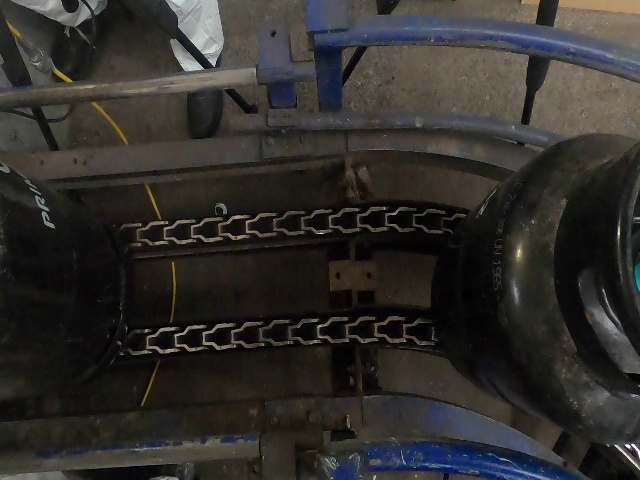gas_bottle: (0, 1, 629, 480)
